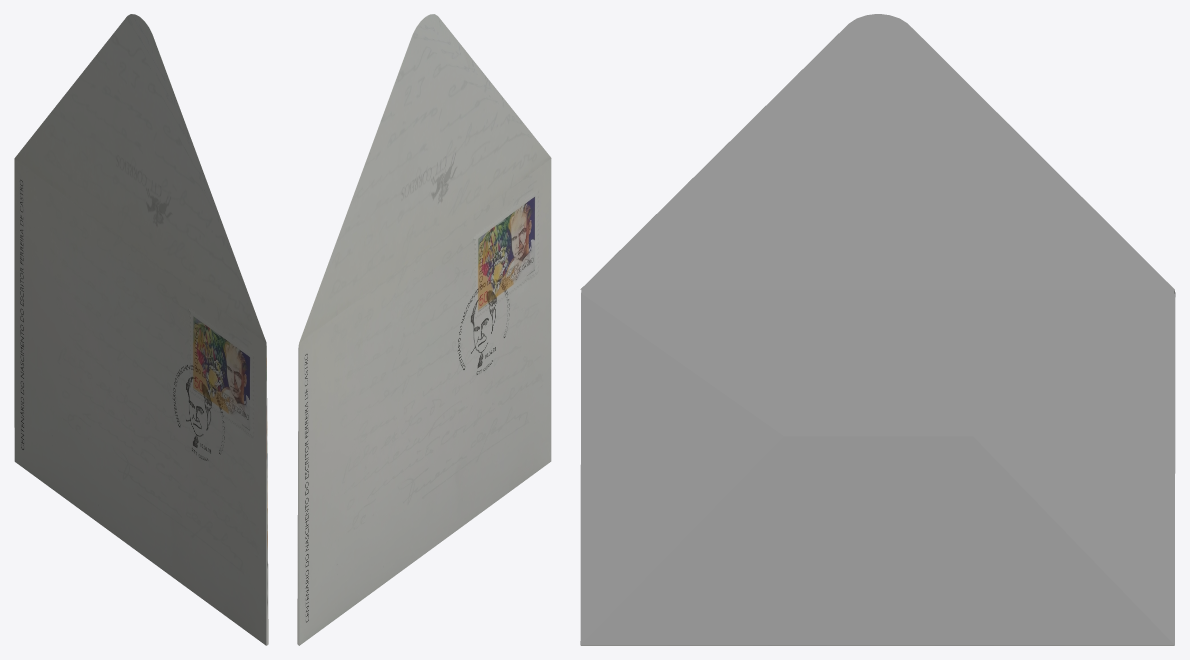
File: envelope.glb
The picture shows the model from 3 angles, left to right: view 1: azimuth 30°, elevation 25°; view 2: azimuth 150°, elevation 25°; view 3: azimuth 270°, elevation 25°; orthographic projection. The views are drawn at different scales.
Visible parts, largest first — view 1: Plane_0; view 2: Plane_0; view 3: Plane_0.
Boxes of the visible parts, x1=… form: Plane_0: x1=14, y1=14, x2=268, y2=645; Plane_0: x1=297, y1=14, x2=551, y2=645; Plane_0: x1=580, y1=14, x2=1175, y2=645.
Size of the model in its own units: 0.0508 by 3.52 by 3.
Materials: 4 (2 with a texture image).
